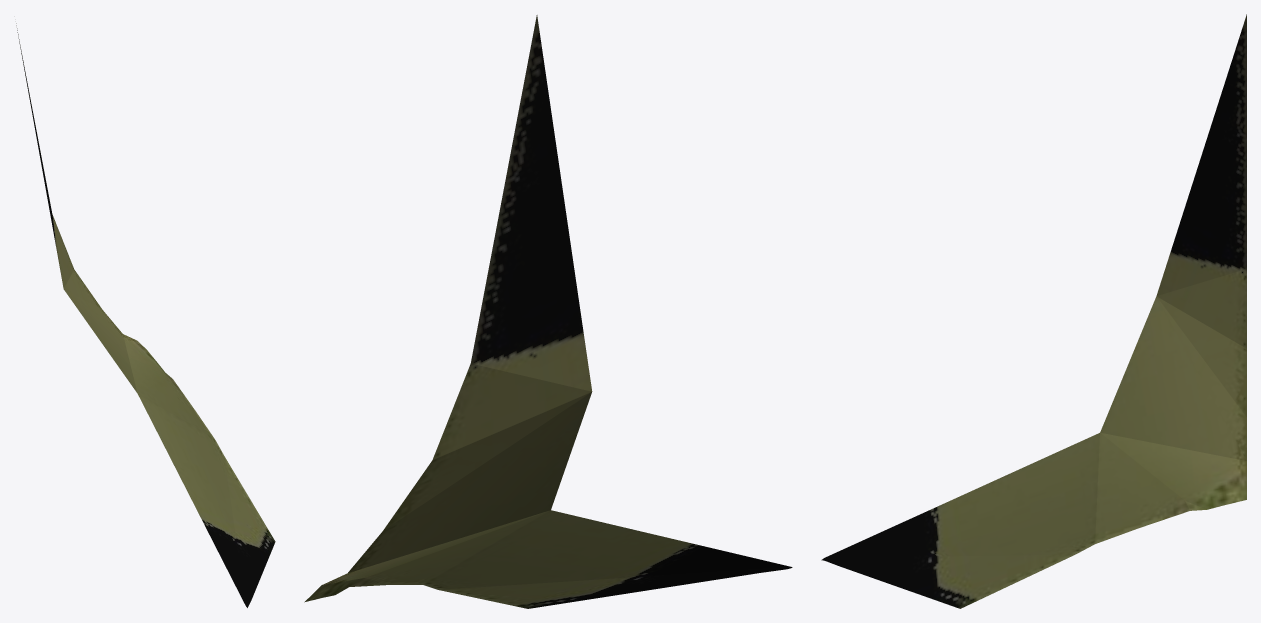
3 renders of one model, left to right at view 1: azimuth 30°, elevation 25°; view 2: azimuth 150°, elevation 25°; view 3: azimuth 270°, elevation 25°, orthographic. The views are drawn at different scales.
Size of the model in its own units: 1.62 by 5.43 by 4.01.
Materials: 1 (1 with a texture image).
